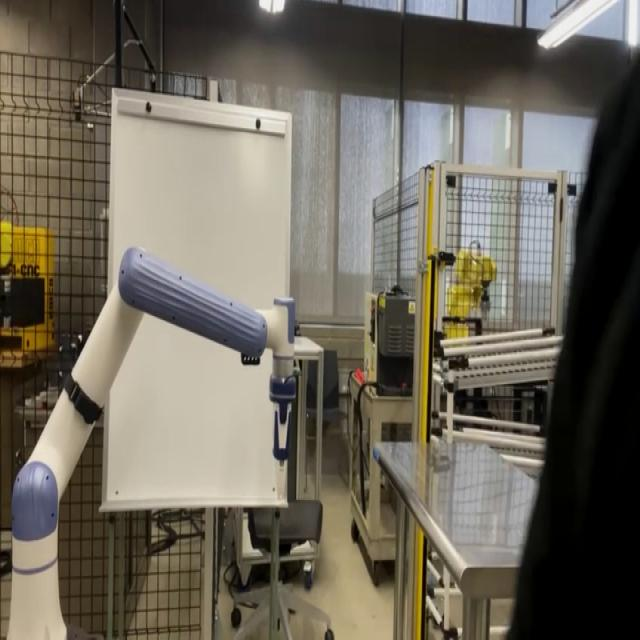robot: (5, 243, 301, 637)
